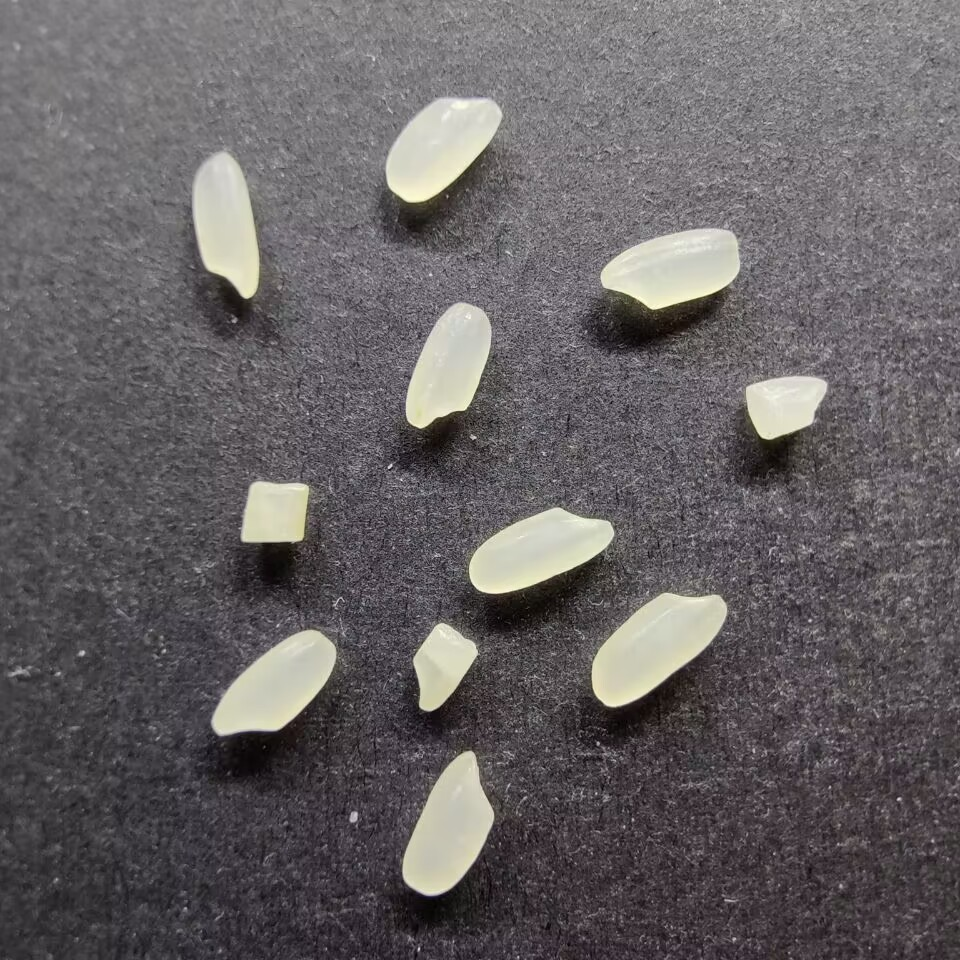broken: (412, 620, 480, 718), (743, 375, 828, 441), (240, 480, 310, 547)
rice: (589, 590, 728, 708), (208, 628, 338, 739), (400, 748, 496, 897), (382, 94, 504, 205), (466, 505, 615, 595), (598, 225, 740, 311), (404, 300, 493, 432), (191, 148, 263, 300)
